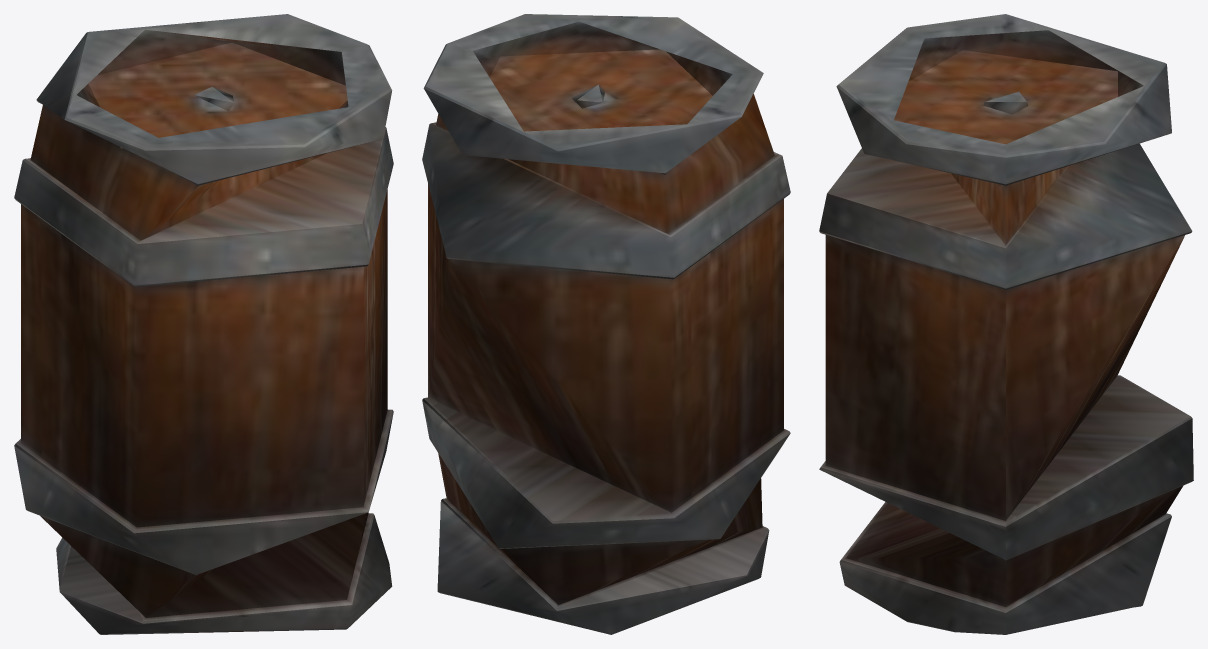
3 renders of one model, left to right at view 1: azimuth 30°, elevation 25°; view 2: azimuth 150°, elevation 25°; view 3: azimuth 270°, elevation 25°, orthographic. The views are drawn at different scales.
Parts seen in each view (by area): view 1: barrel; view 2: barrel; view 3: barrel.
Part boxes in pixels (left/top/right/bottom): barrel: left=14, top=14, right=393, bottom=634; barrel: left=422, top=14, right=790, bottom=634; barrel: left=819, top=14, right=1193, bottom=634.
Size of the model in its own units: 0.637 by 0.9 by 0.6363.
Materials: 1 (1 with a texture image).
